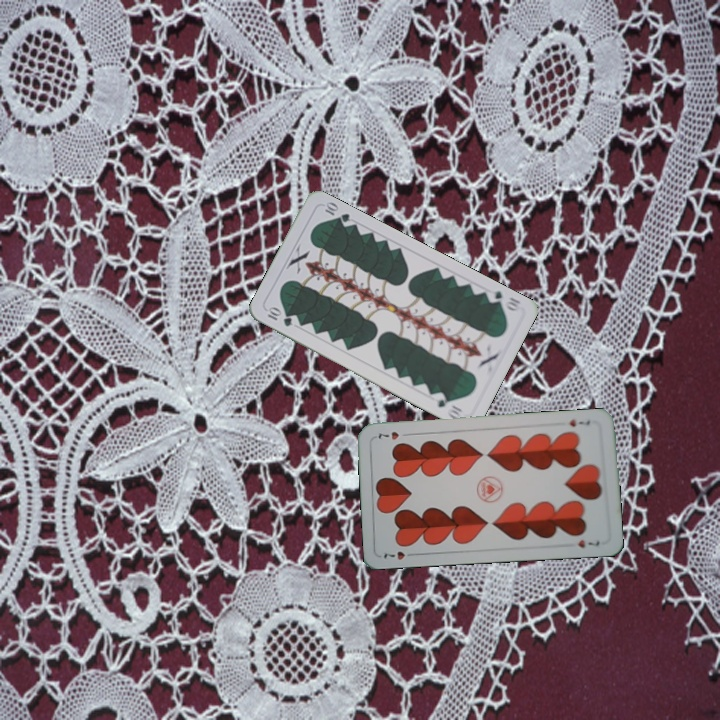G10: (483, 287, 523, 315), (262, 304, 295, 329)
H7: (380, 547, 419, 562), (565, 415, 592, 429)
